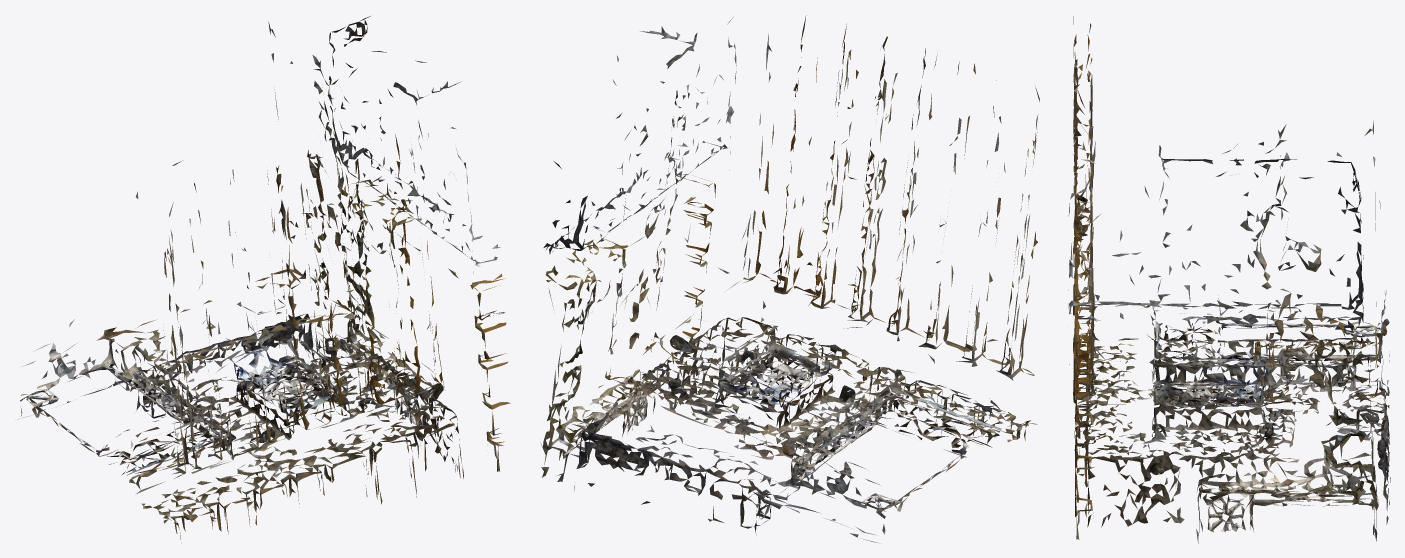
3 renders of one model, left to right at view 1: azimuth 30°, elevation 25°; view 2: azimuth 150°, elevation 25°; view 3: azimuth 270°, elevation 25°, orthographic. The views are drawn at different scales.
Bounding box in the file's own units: 6.81 × 7.01 × 5.31.
1 material, 1 textured.
